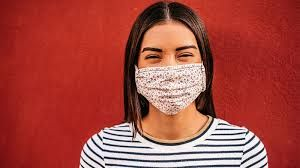with-mask: (123, 14, 213, 119)
